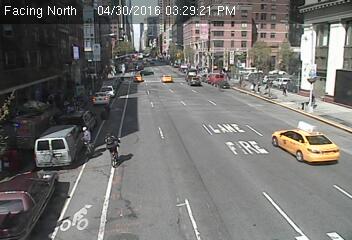neg: (118, 137, 160, 193), (302, 105, 343, 161), (183, 117, 215, 159), (188, 2, 213, 36), (239, 5, 264, 37), (214, 66, 234, 93), (56, 87, 75, 111), (49, 6, 67, 30), (119, 39, 136, 62), (32, 71, 47, 92), (21, 120, 36, 139), (164, 52, 178, 71), (138, 28, 151, 45), (103, 38, 115, 54), (87, 84, 98, 99), (93, 46, 102, 58)
pos: (73, 123, 98, 156), (280, 78, 294, 98), (254, 76, 266, 93), (249, 78, 258, 90)
